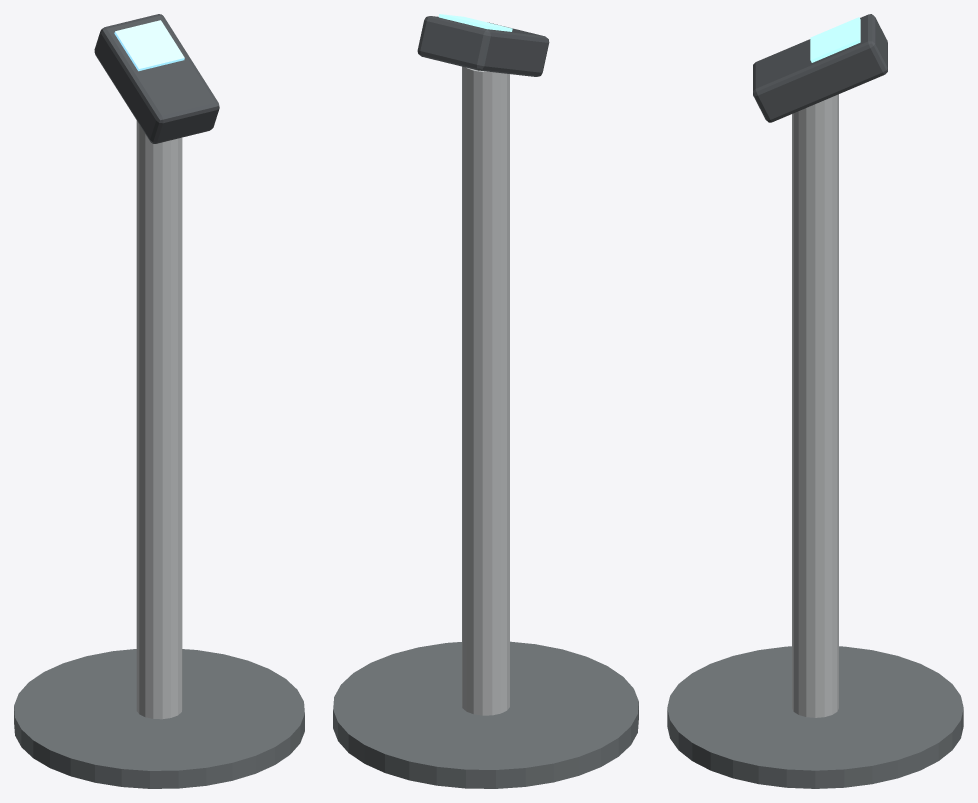
Rendered from payment_terminal_stand.glb.
The picture shows the model from 3 angles, left to right: view 1: azimuth 30°, elevation 25°; view 2: azimuth 150°, elevation 25°; view 3: azimuth 270°, elevation 25°; orthographic projection. The views are drawn at different scales.
Parts seen in each view (by area): view 1: payment_terminal_stand; view 2: payment_terminal_stand; view 3: payment_terminal_stand.
Boxes of the visible parts, left/top/right/bottom form: payment_terminal_stand: left=14, top=14, right=304, bottom=788; payment_terminal_stand: left=333, top=14, right=638, bottom=788; payment_terminal_stand: left=667, top=14, right=963, bottom=788.
Bounding box in the file's own units: 0.44 × 1.14 × 0.44.
